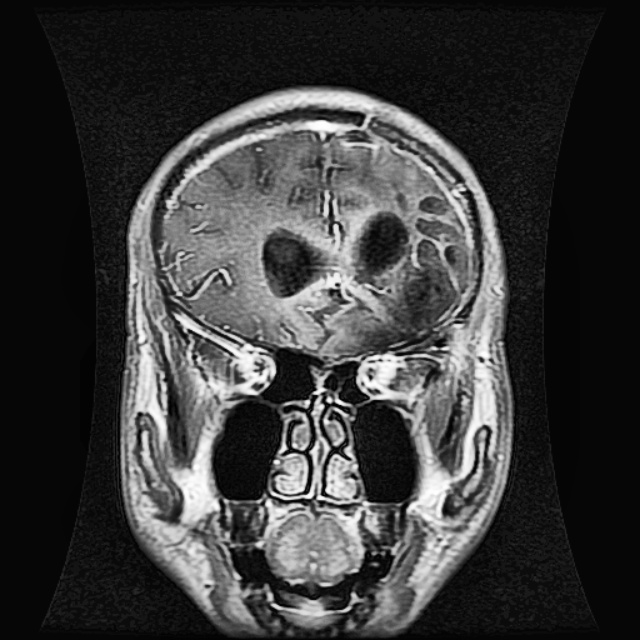Meningioma: (333, 197, 473, 354)
